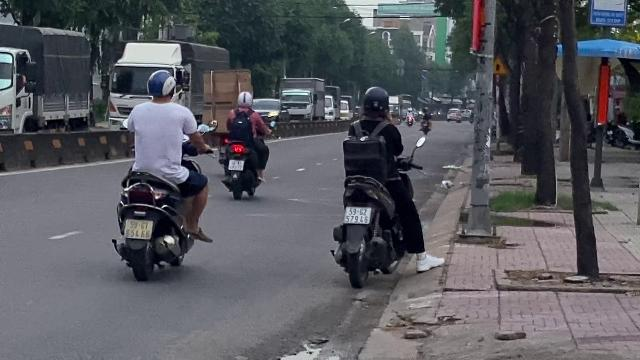helmet: (146, 69, 178, 101), (360, 86, 390, 118), (235, 91, 253, 109)
licenseplate: (124, 218, 152, 238), (344, 206, 370, 224), (228, 160, 244, 170)
motorcyclist: (108, 68, 212, 282), (328, 85, 426, 288), (220, 91, 268, 199)
